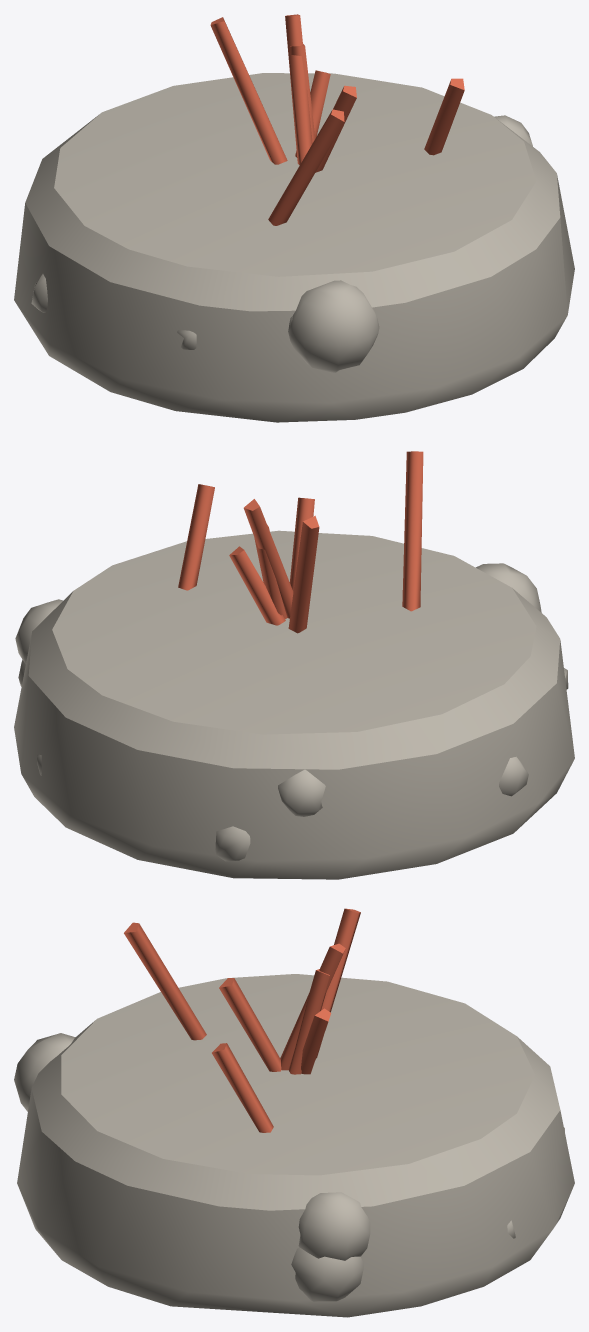
The model's file is concrete_plug.glb.
3 renders of one model, top to bottom at view 1: azimuth 30°, elevation 25°; view 2: azimuth 150°, elevation 25°; view 3: azimuth 270°, elevation 25°, orthographic.
Parts seen in each view (by area): view 1: concrete_plug; view 2: concrete_plug; view 3: concrete_plug.
Boxes of the visible parts, left/top/right/bottom form: concrete_plug: left=14, top=14, right=574, bottom=422; concrete_plug: left=14, top=451, right=574, bottom=879; concrete_plug: left=14, top=908, right=574, bottom=1317.
Size of the model in its own units: 2.15 by 1.15 by 2.11.
1 material, 1 textured.
